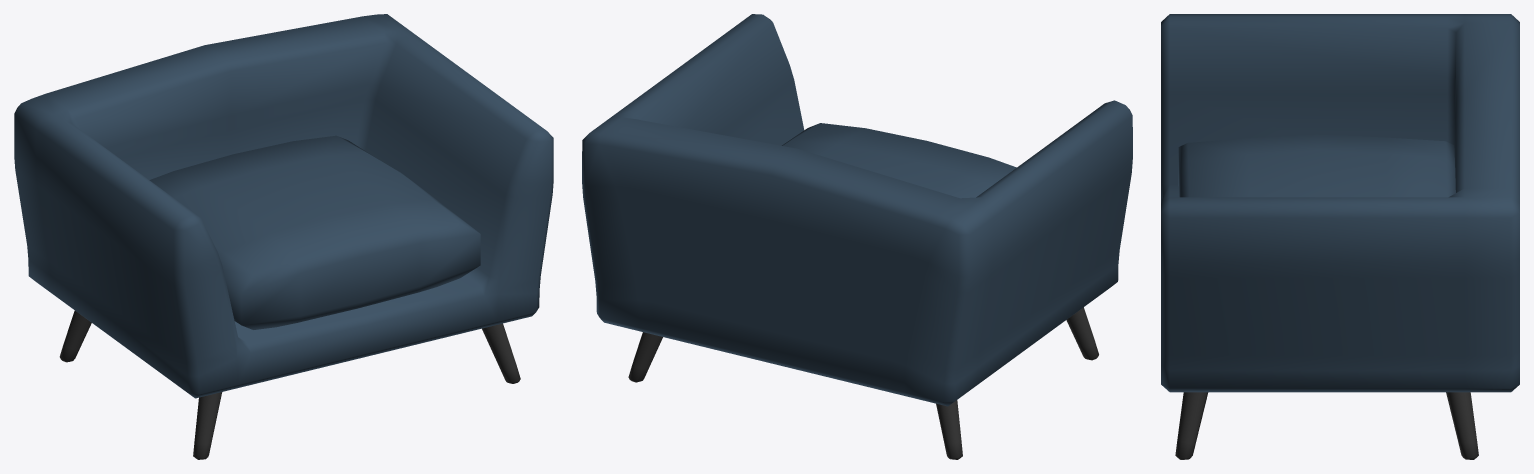
The model's file is Couch_Small1.glb.
3 renders of one model, left to right at view 1: azimuth 30°, elevation 25°; view 2: azimuth 150°, elevation 25°; view 3: azimuth 270°, elevation 25°, orthographic. The views are drawn at different scales.
Parts seen in each view (by area): view 1: Couch_Small1; view 2: Couch_Small1; view 3: Couch_Small1.
Boxes of the visible parts, box(x1,y1,x2,y2) form: Couch_Small1: box(14, 14, 553, 459); Couch_Small1: box(582, 14, 1132, 459); Couch_Small1: box(1161, 14, 1519, 459).
Bounding box in the file's own units: 2.89 × 1.91 × 2.2.
